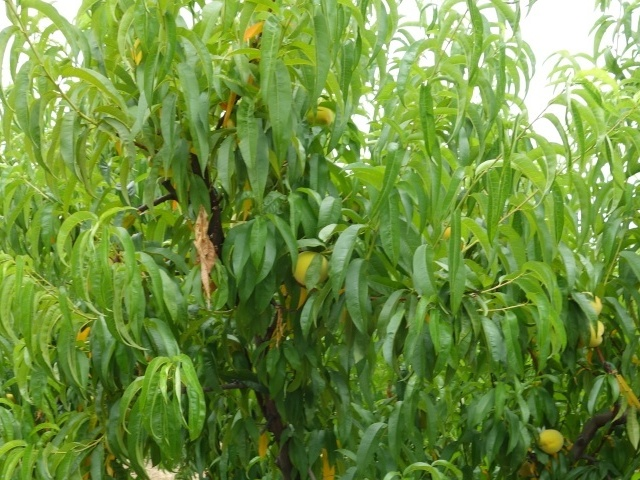peach: (287, 247, 328, 288), (304, 97, 335, 133), (535, 424, 566, 456), (582, 321, 609, 352)
